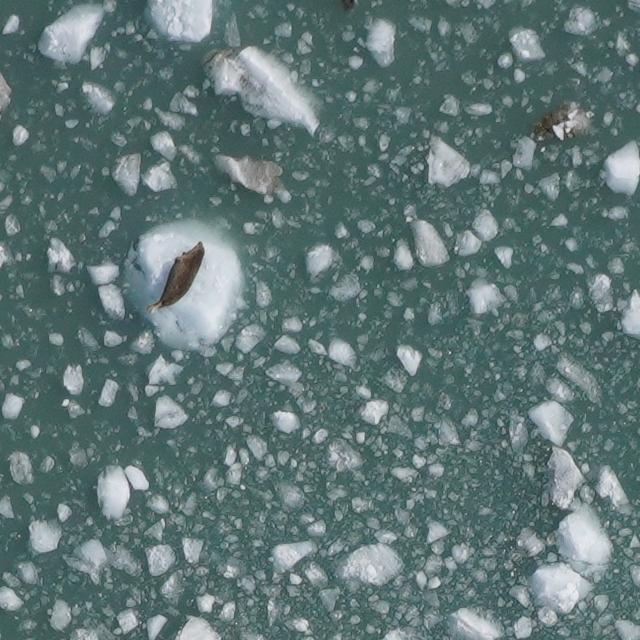seal: (144, 238, 209, 318)
